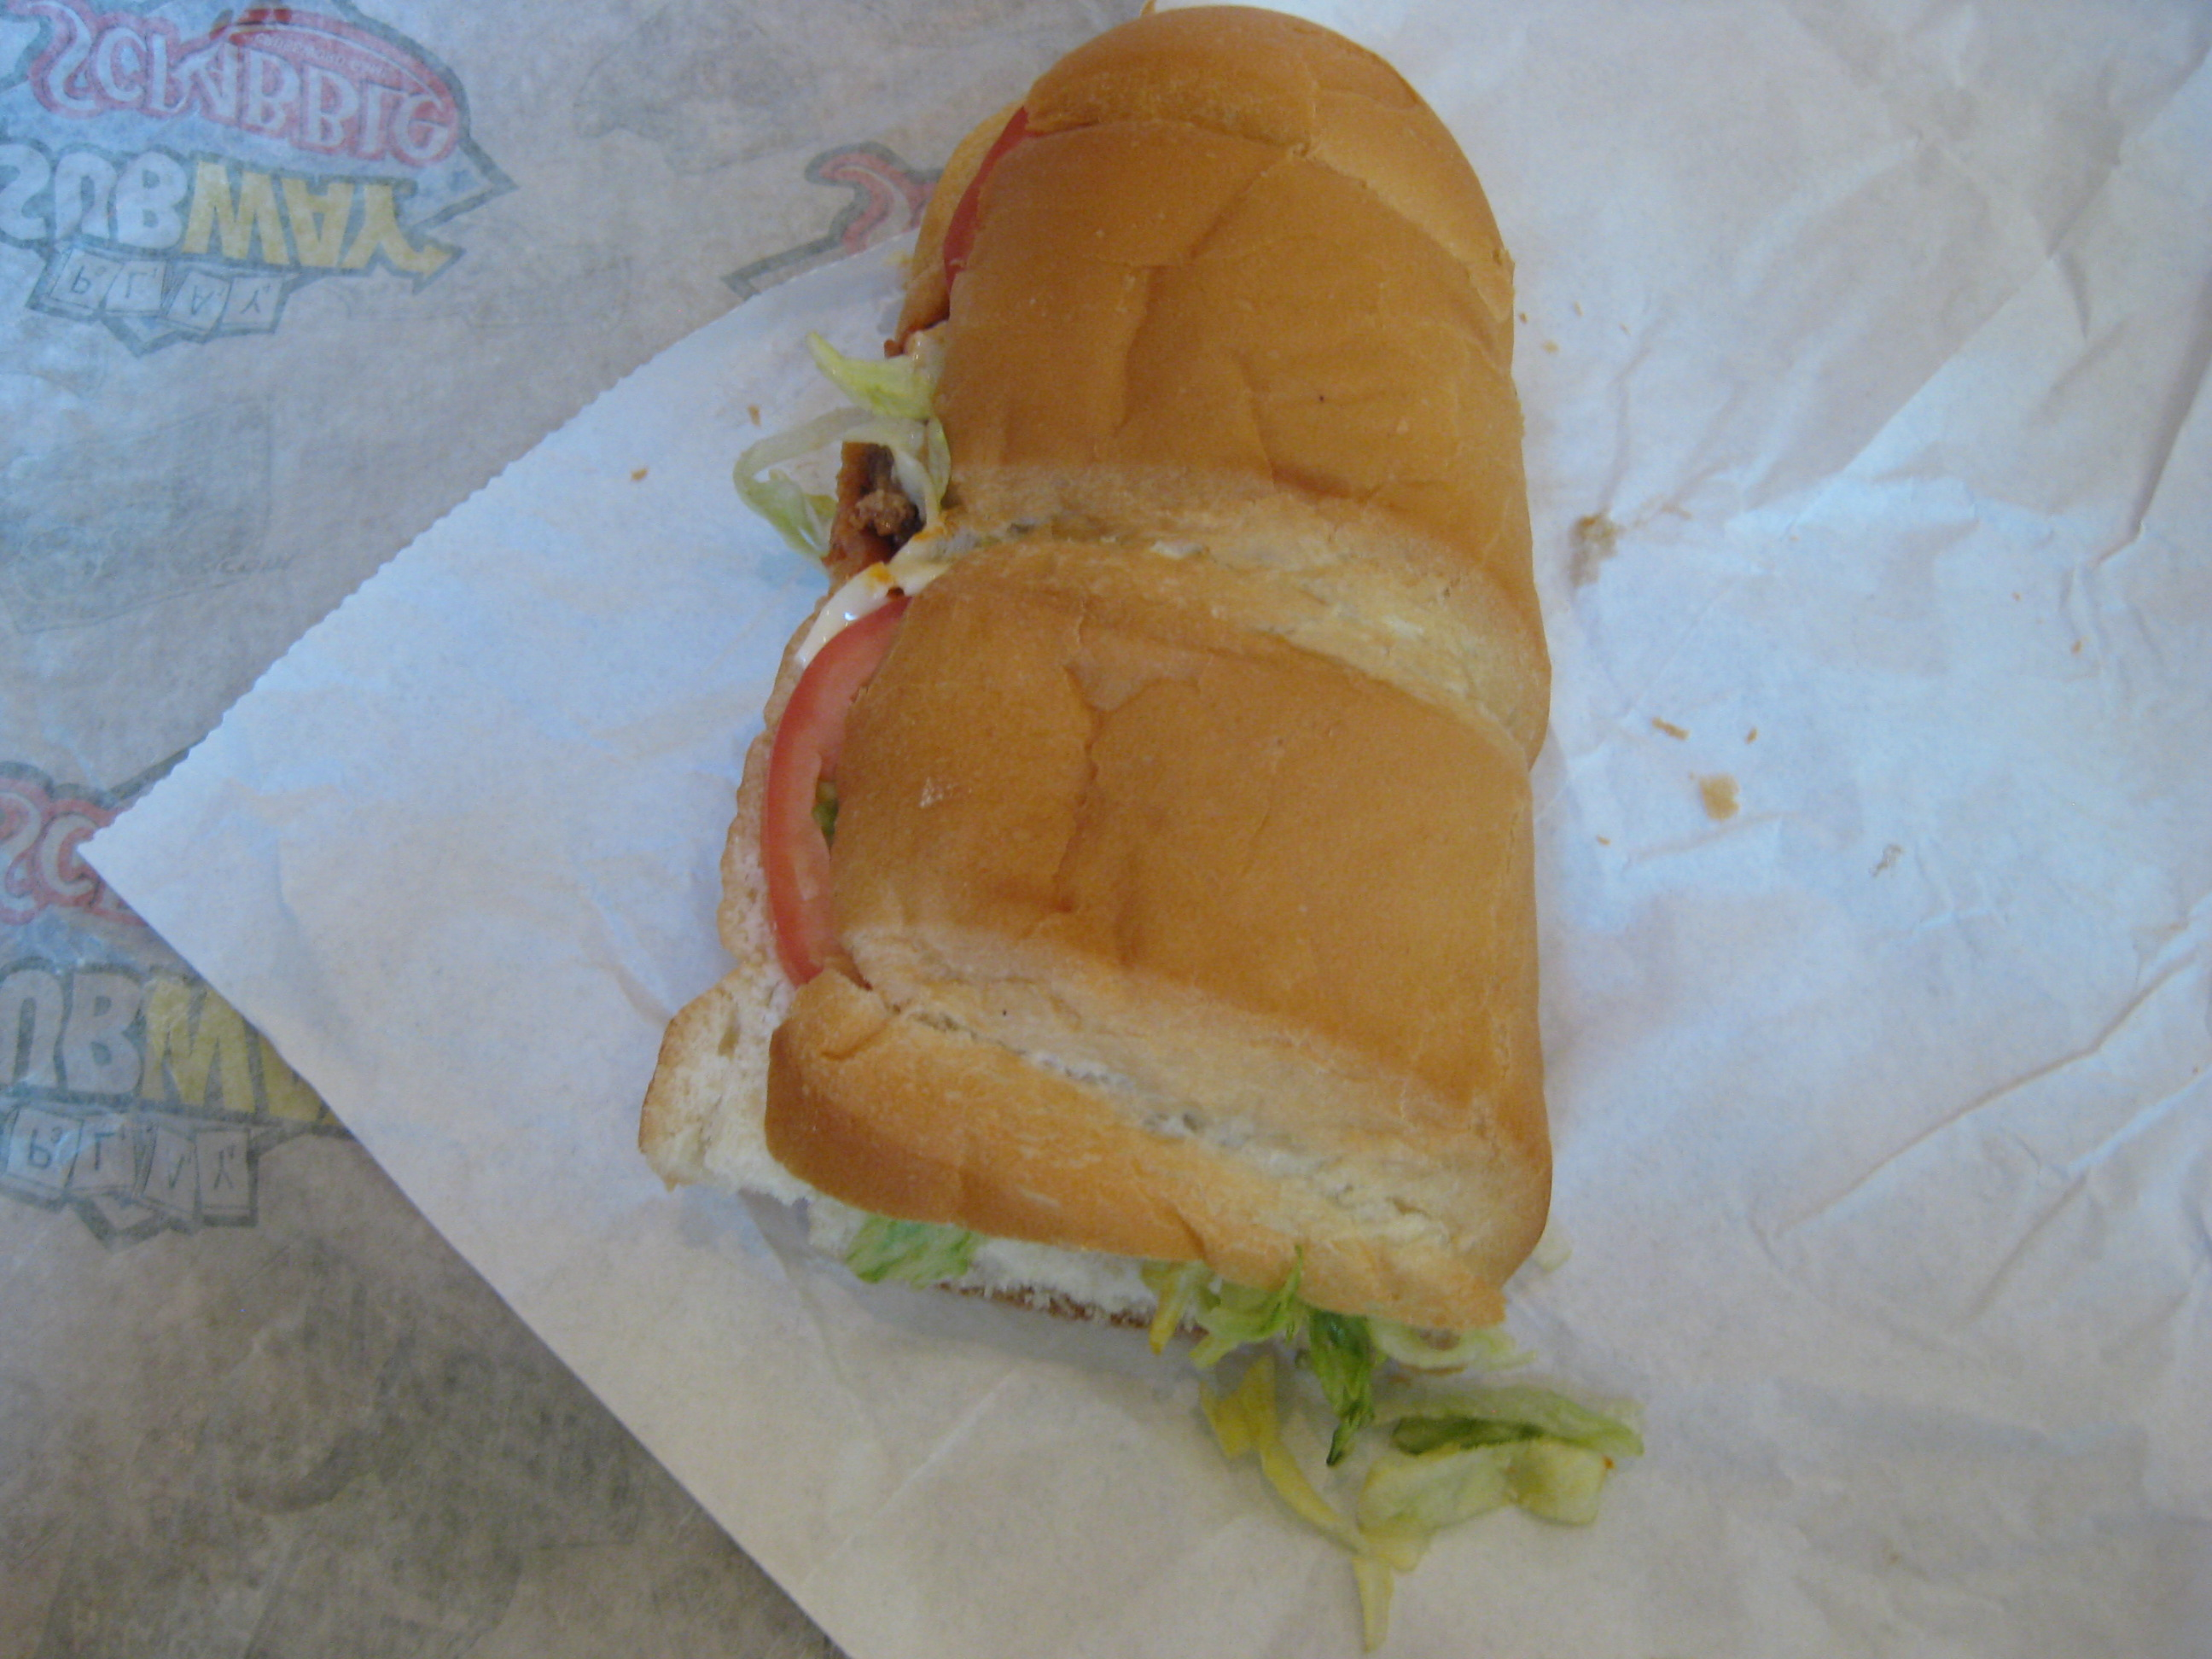sub: (643, 3, 1663, 1454)
